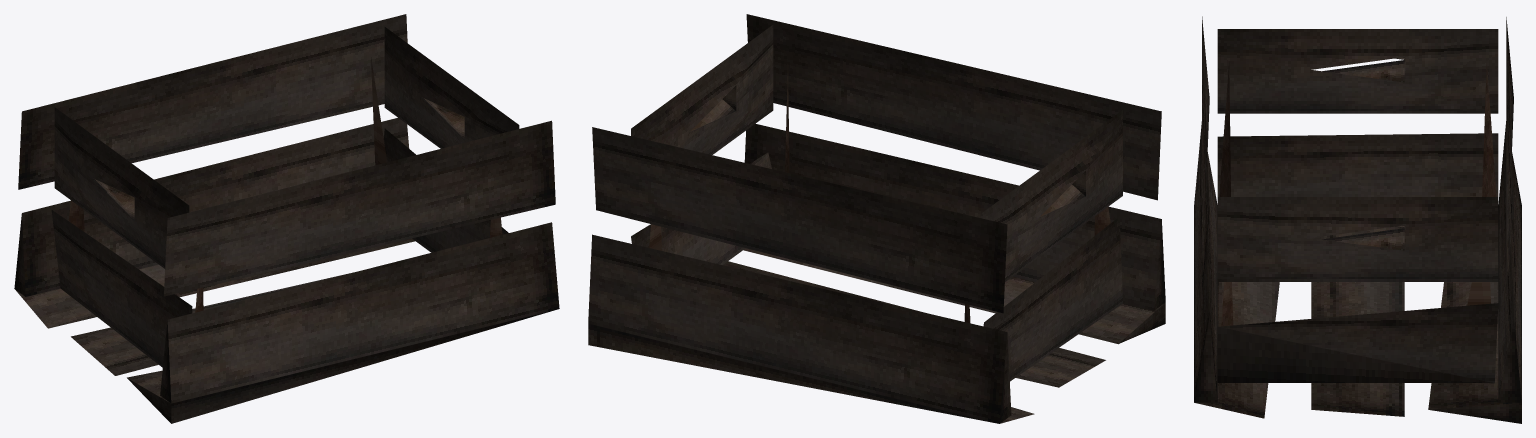
The model's file is wooden_crate_1.glb.
3 renders of one model, left to right at view 1: azimuth 30°, elevation 25°; view 2: azimuth 150°, elevation 25°; view 3: azimuth 270°, elevation 25°, orthographic. The views are drawn at different scales.
Visible parts, largest first — view 1: wooden_crate_1; view 2: wooden_crate_1; view 3: wooden_crate_1.
Boxes of the visible parts, x1=… form: wooden_crate_1: x1=14, y1=14, x2=559, y2=423; wooden_crate_1: x1=588, y1=14, x2=1165, y2=423; wooden_crate_1: x1=1194, y1=16, x2=1521, y2=423.
Bounding box in the file's own units: 0.72 × 0.36 × 0.504.
1 material, 1 textured.
